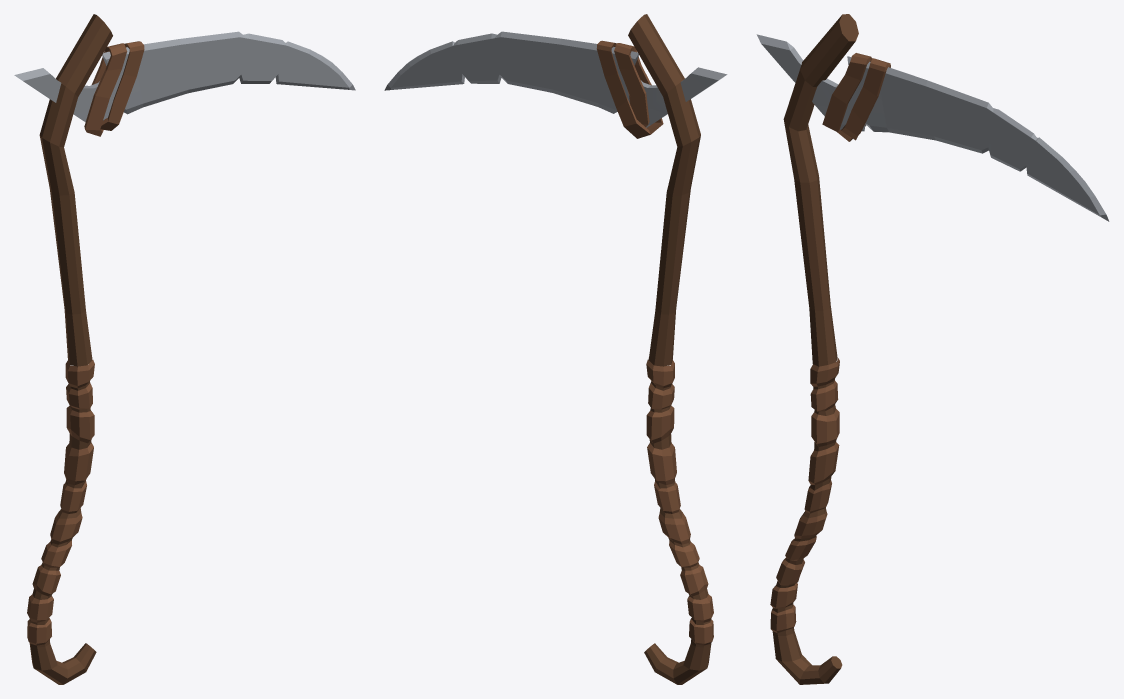
Rendered from Scythe.glb.
The picture shows the model from 3 angles, left to right: view 1: azimuth 30°, elevation 25°; view 2: azimuth 150°, elevation 25°; view 3: azimuth 330°, elevation 25°; orthographic projection. The views are drawn at different scales.
Visible parts, largest first — view 1: DarkWood, Steel, LightWood, LightSteel; view 2: DarkWood, Steel, LightWood, LightSteel; view 3: DarkWood, Steel, LightWood, LightSteel.
Part boxes in pixels (x1,y1,x2,y2): DarkWood: [29, 14, 112, 684]; Steel: [23, 37, 349, 121]; LightWood: [27, 41, 144, 645]; LightSteel: [14, 31, 355, 120]; DarkWood: [628, 14, 711, 684]; Steel: [391, 37, 718, 124]; LightWood: [596, 40, 713, 645]; LightSteel: [384, 31, 727, 127]; DarkWood: [772, 14, 858, 684]; Steel: [761, 44, 1099, 214]; LightWood: [770, 53, 890, 632]; LightSteel: [756, 34, 1109, 221].
Size of the model in its own units: 3.03 by 5.58 by 0.2771.
